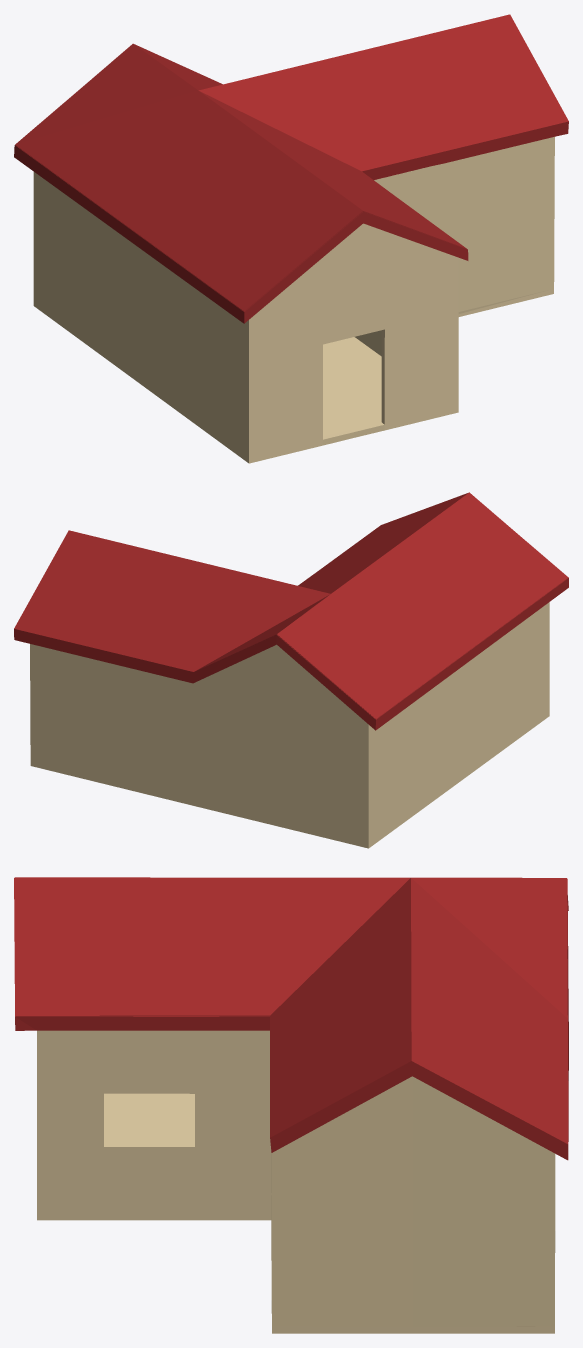
The model's file is House.fbx.
3 renders of one model, top to bottom at view 1: azimuth 30°, elevation 25°; view 2: azimuth 150°, elevation 25°; view 3: azimuth 270°, elevation 25°, orthographic. The views are drawn at different scales.
Visible parts, largest first — view 1: Roof, House; view 2: House, Roof; view 3: Roof, House.
Part boxes in pixels (<box>): Roof: <box>14,14,568,323</box>; House: <box>33,136,554,463</box>; House: <box>30,602,549,848</box>; Roof: <box>14,492,568,730</box>; Roof: <box>14,877,568,1160</box>; House: <box>37,1030,555,1333</box>.
Size of the model in its own units: 596 by 309 by 553.
